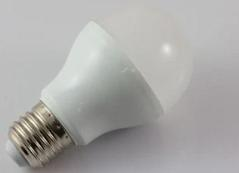lightbulb: (5, 19, 165, 168), (94, 5, 194, 114)
